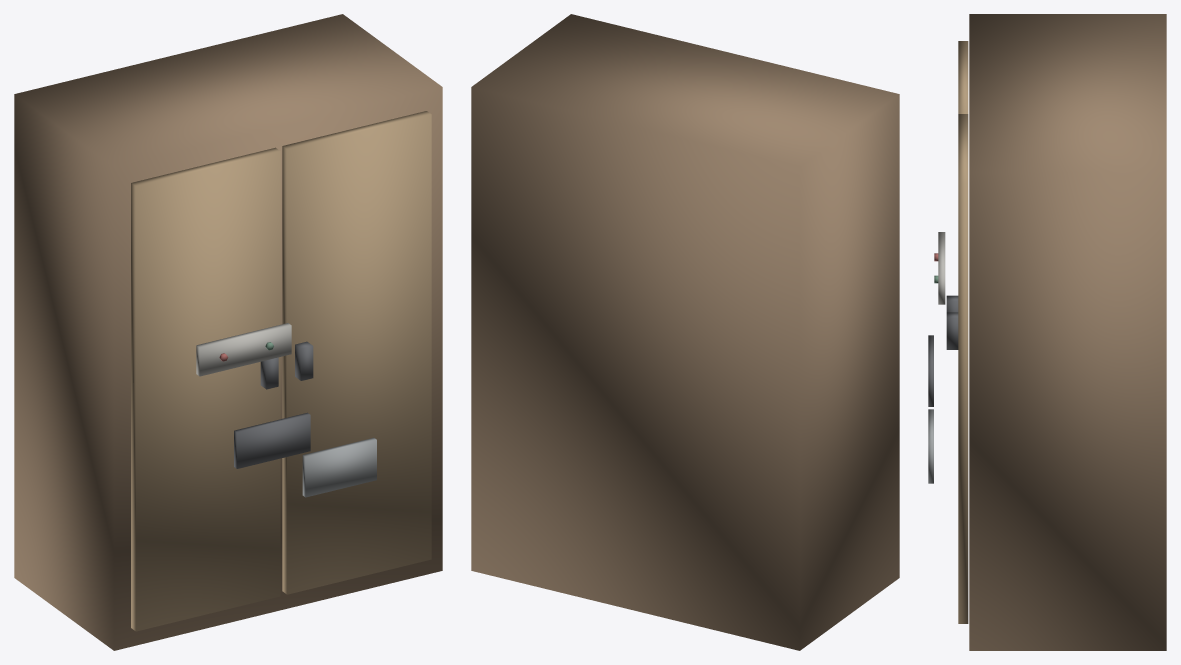
Rendered from typesetter_drawer_cabinet__weathered.glb.
3 views of the same model, side by side, from view 1: azimuth 30°, elevation 25°; view 2: azimuth 150°, elevation 25°; view 3: azimuth 270°, elevation 25° (orthographic).
Parts seen in each view (by area): view 1: world; view 2: world; view 3: world.
Boxes of the visible parts, x1=… form: world: x1=14, y1=14, x2=442, y2=650; world: x1=471, y1=14, x2=899, y2=650; world: x1=928, y1=14, x2=1166, y2=650.
Bounding box in the file's own units: 0.95 × 1.34 × 0.6041.
